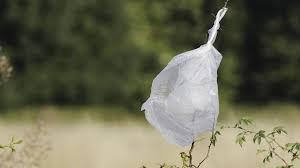Plastic: (143, 2, 230, 147)
